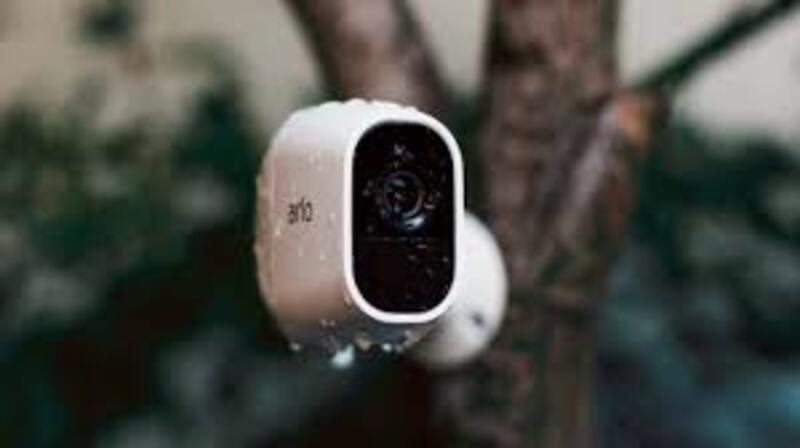bullet: (241, 104, 477, 353)
